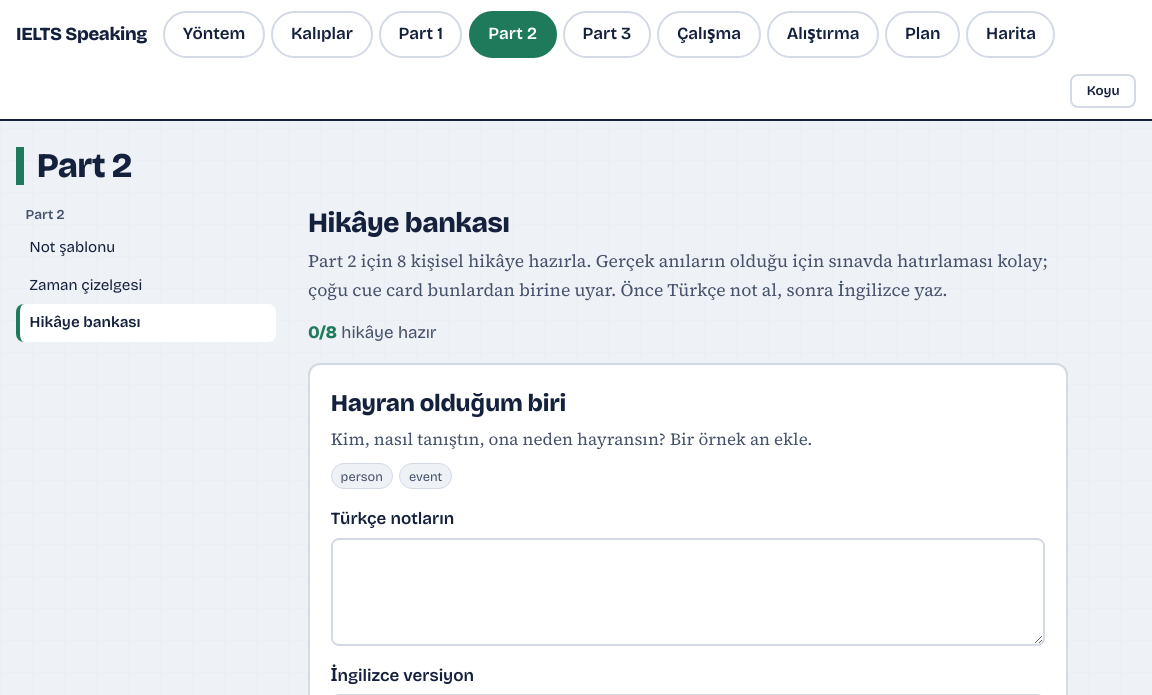
part 2 page › corrupt stories storage (null) does not crash
Expected: the element named "Doldurulan hikâye" shows "0/8", [308,322,437,343]
Type "x" into the text box labelled "Türkçe notların" at (688, 592), box [331,538,1045,646]
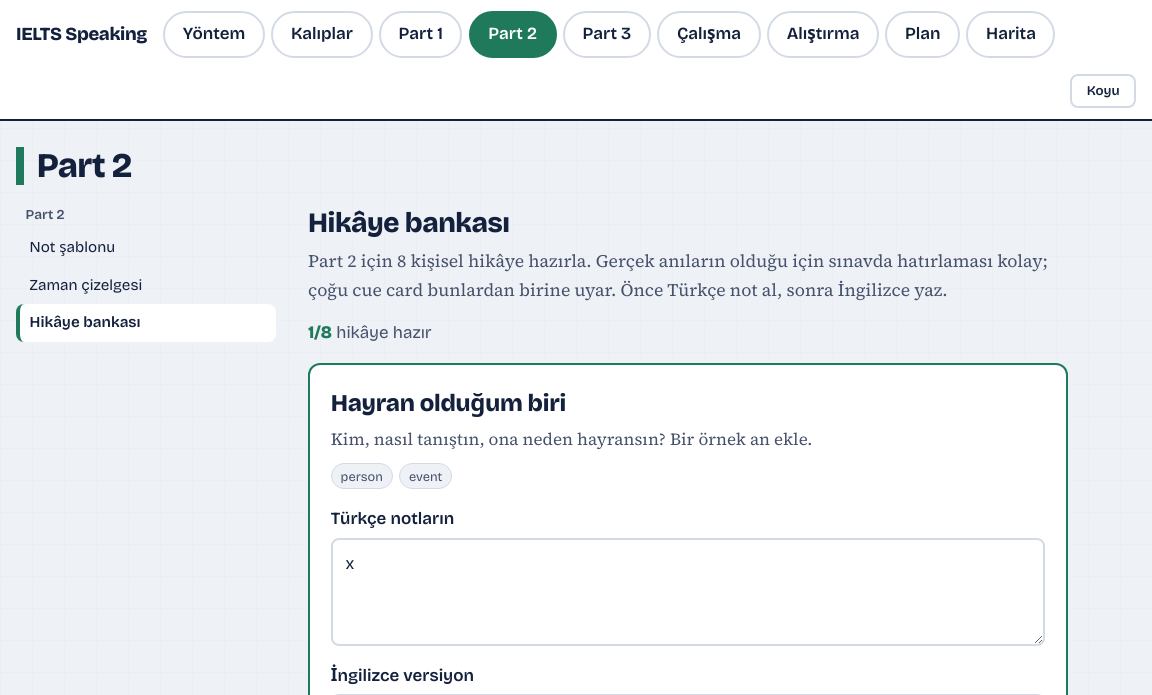
Expected: the element named "Doldurulan hikâye" shows "1/8", [308,322,432,343]
